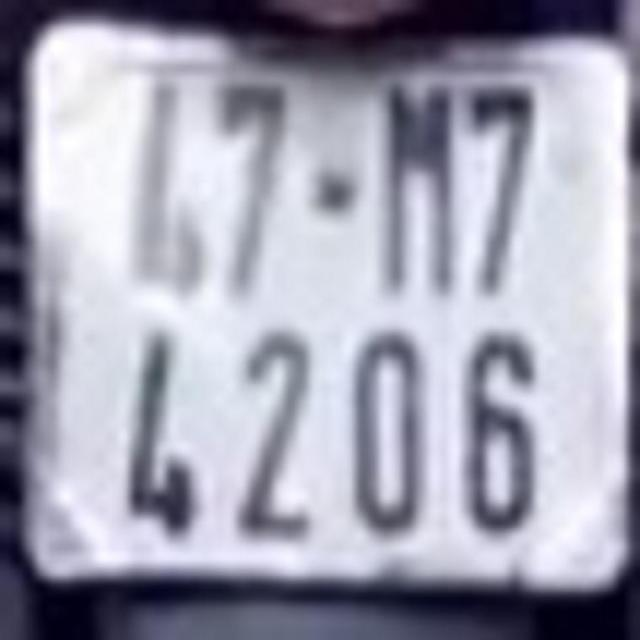0: (348, 324, 430, 540)
2: (237, 334, 311, 534)
4: (129, 88, 210, 314), (122, 334, 198, 548)
6: (456, 324, 546, 538)
7: (460, 83, 544, 303), (215, 82, 289, 305)
M: (385, 76, 455, 298)
